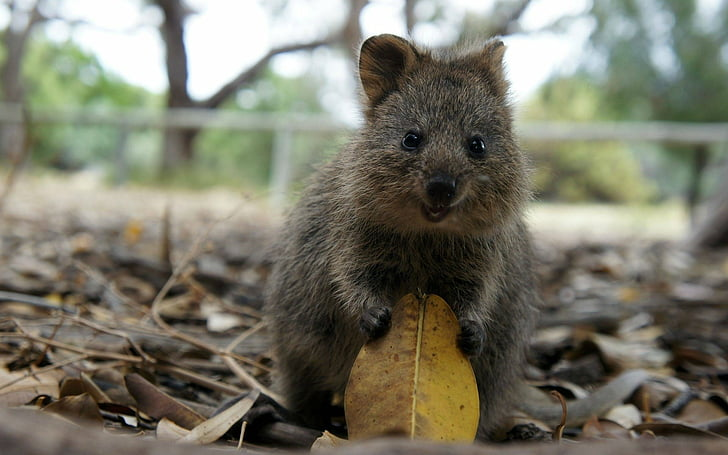quokka: (242, 25, 534, 455)
